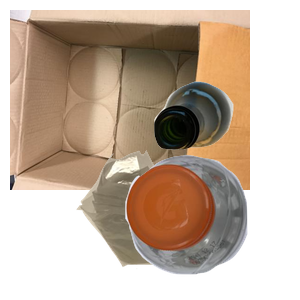cardboard: (10, 10, 250, 190)
glass: (151, 79, 300, 221)
plastic: (123, 152, 300, 300)
trash: (74, 148, 273, 300)
